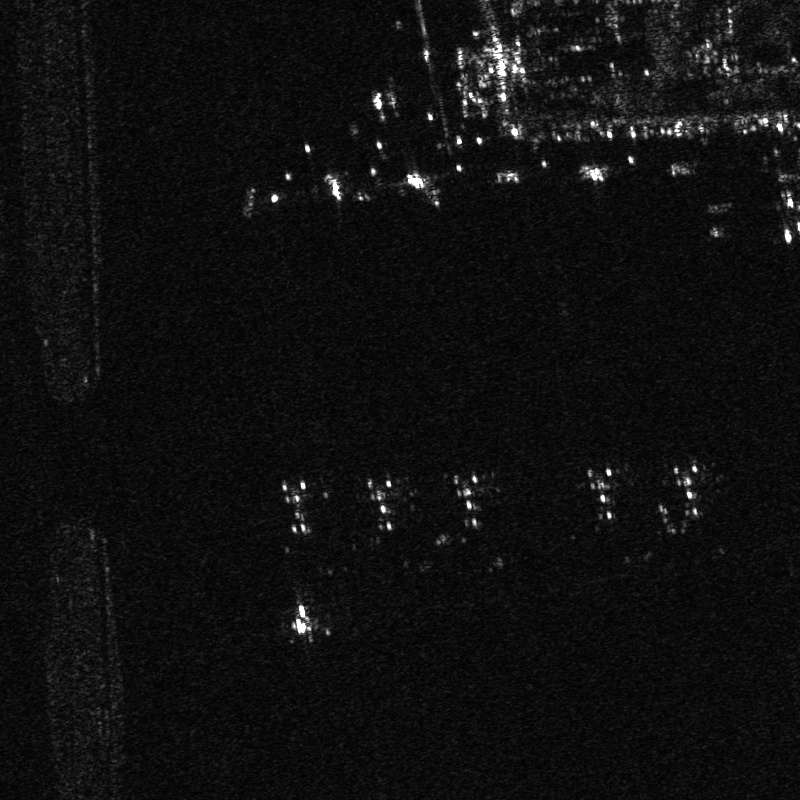ARJ21: (757, 166, 799, 246), (273, 592, 327, 648)
Boeing737: (389, 162, 455, 212)
other: (652, 455, 722, 525), (438, 463, 500, 539), (269, 472, 329, 539), (357, 465, 408, 539), (575, 459, 624, 529)
